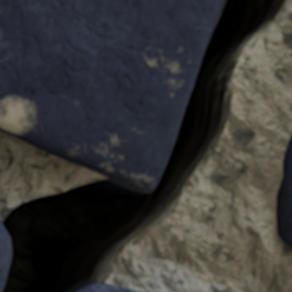brick: (0, 0, 221, 190), (278, 138, 291, 247)
broken_brick: (0, 220, 11, 291), (81, 282, 140, 291)
crack: (1, 0, 291, 291)
